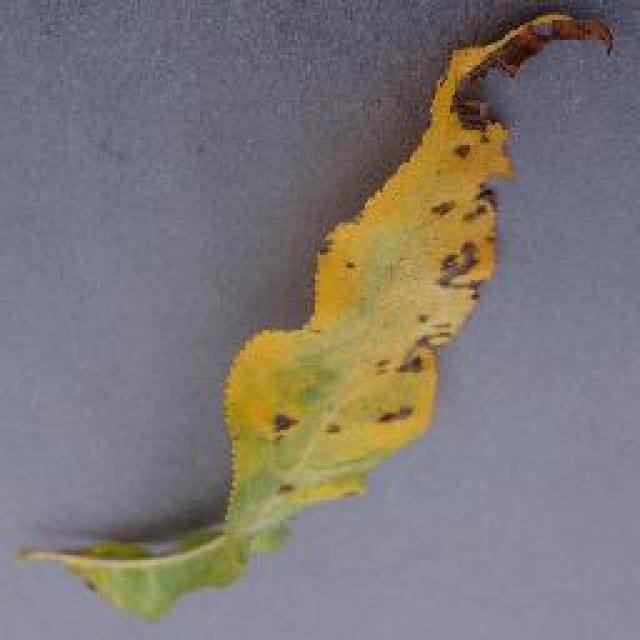Peach_Bacterial_Spot: (343, 122, 517, 505)
